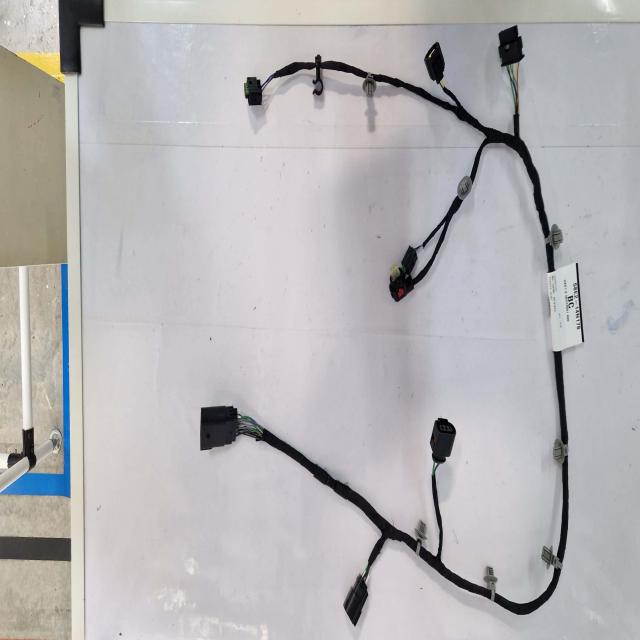Clip: (483, 565, 500, 602), (539, 546, 564, 571), (542, 226, 564, 253), (413, 518, 427, 557), (311, 53, 323, 94), (552, 440, 569, 467), (363, 71, 380, 96), (458, 176, 474, 201)
Connector: (198, 405, 243, 453), (340, 575, 369, 631), (390, 245, 418, 301), (430, 421, 460, 468), (497, 27, 526, 69), (424, 41, 447, 83), (243, 75, 263, 104)
Gape: (235, 416, 266, 443), (506, 58, 521, 110), (263, 70, 279, 89)
Info: (544, 262, 586, 353)
MHEV_N11_Cable: (256, 56, 555, 301), (418, 350, 569, 614), (242, 422, 421, 629), (260, 430, 414, 624), (483, 341, 571, 619), (419, 421, 499, 606)
